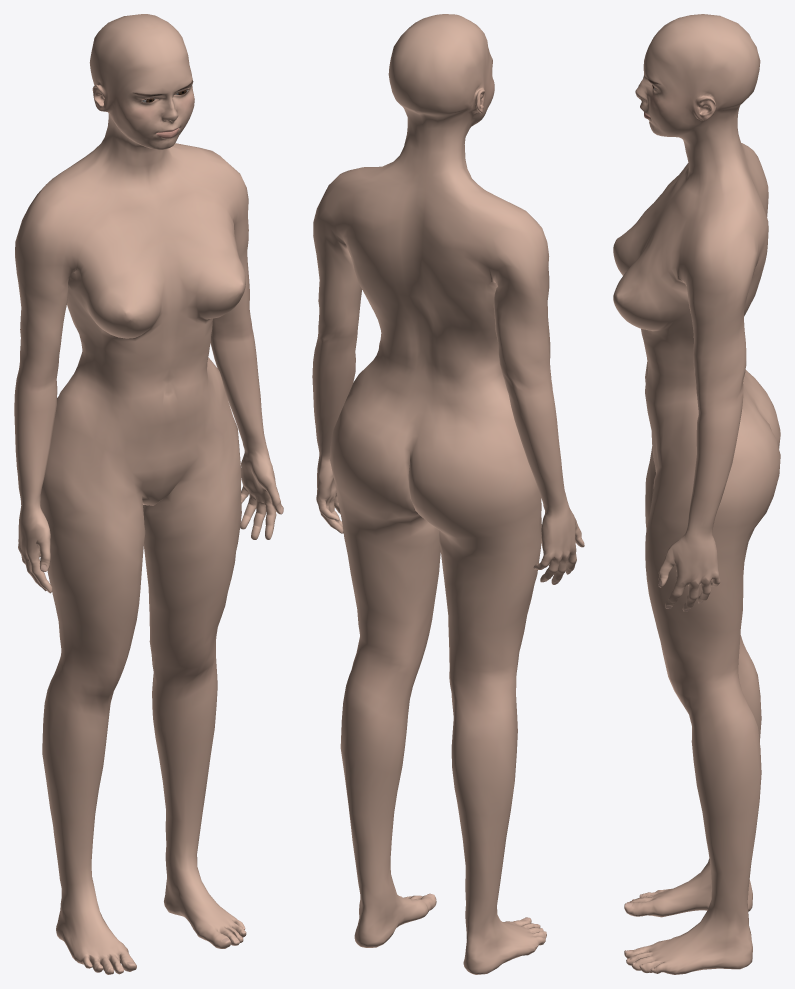
The model's file is woman_east_asian_v3.glb.
3 renders of one model, left to right at view 1: azimuth 30°, elevation 25°; view 2: azimuth 150°, elevation 25°; view 3: azimuth 270°, elevation 25°, orthographic.
Visible parts, largest first — view 1: basemesh_female_body; view 2: basemesh_female_body; view 3: basemesh_female_body.
Boxes of the visible parts, x1,y1,x2,y2 form: basemesh_female_body: (14,14,283,974); basemesh_female_body: (312,14,584,974); basemesh_female_body: (613,14,780,974).
Bounding box in the file's own units: 0.448 × 1.59 × 0.2618.
3 materials, 2 textured.
